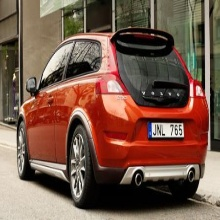no damage: (16, 31, 210, 207)
